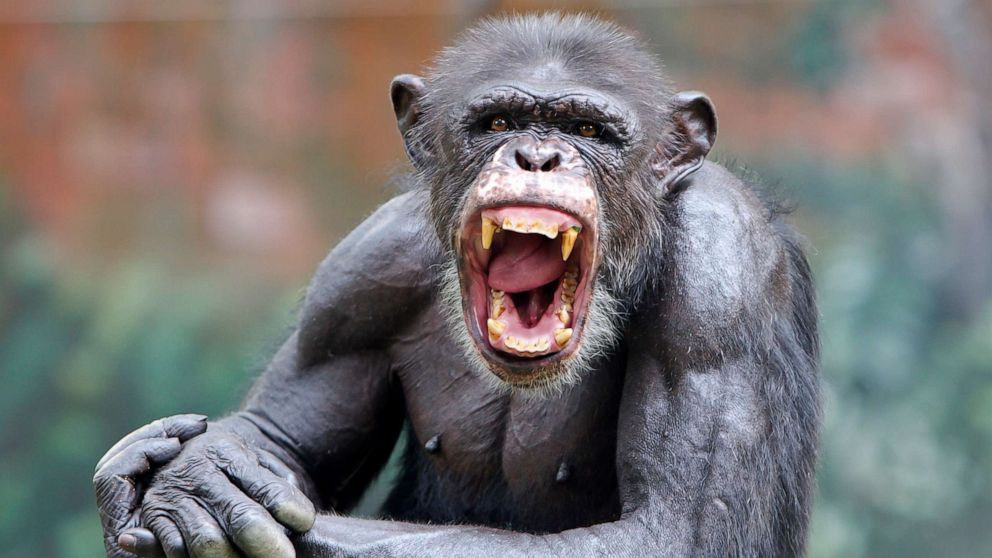Champanze: (366, 5, 748, 558)
